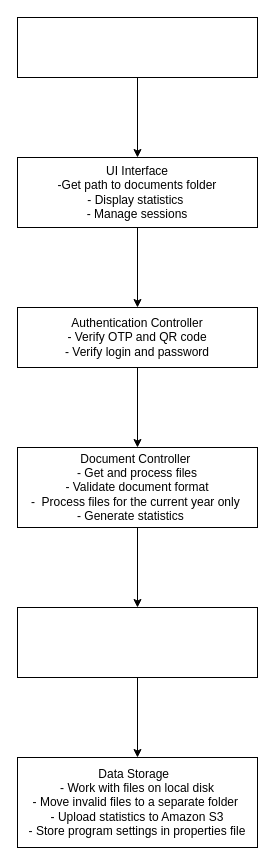
Image size: 275x865. Some labels were removed from this diagram. Here are the shapes that lost their labels. From the top down, the centre of each, then its label:
pixel 137 47: User - Enter OTP and QR code - Enter login and password
pixel 137 642: Logging Controller - Save logs to file - Separate logs into general and errors
